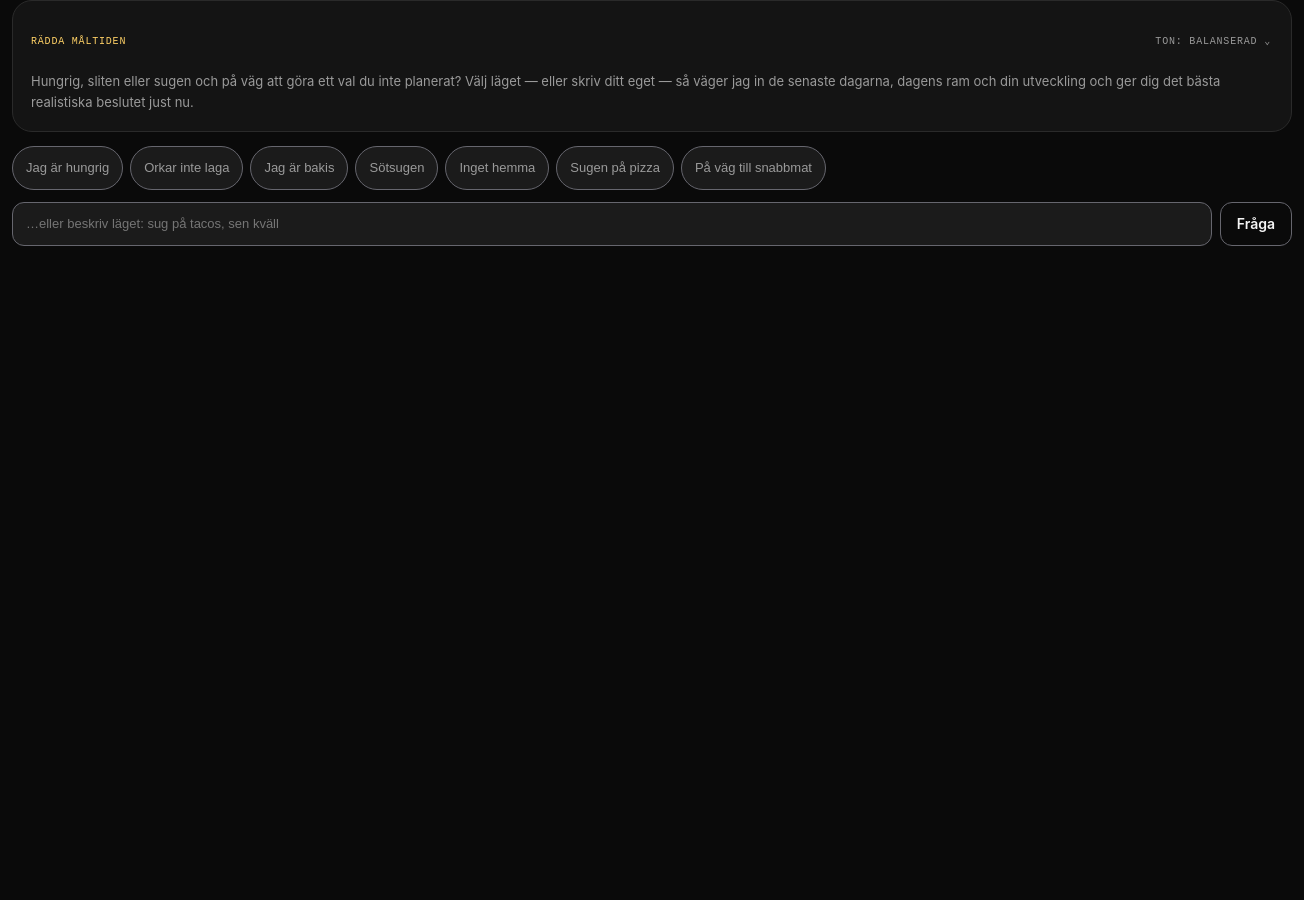
matakuten i gränssnittet › utan dagsmål påstås ingen ram — hellre säga det än hitta på en
Step 1. Click the button "Jag är hungrig" → (68, 168), box [12, 146, 123, 190]
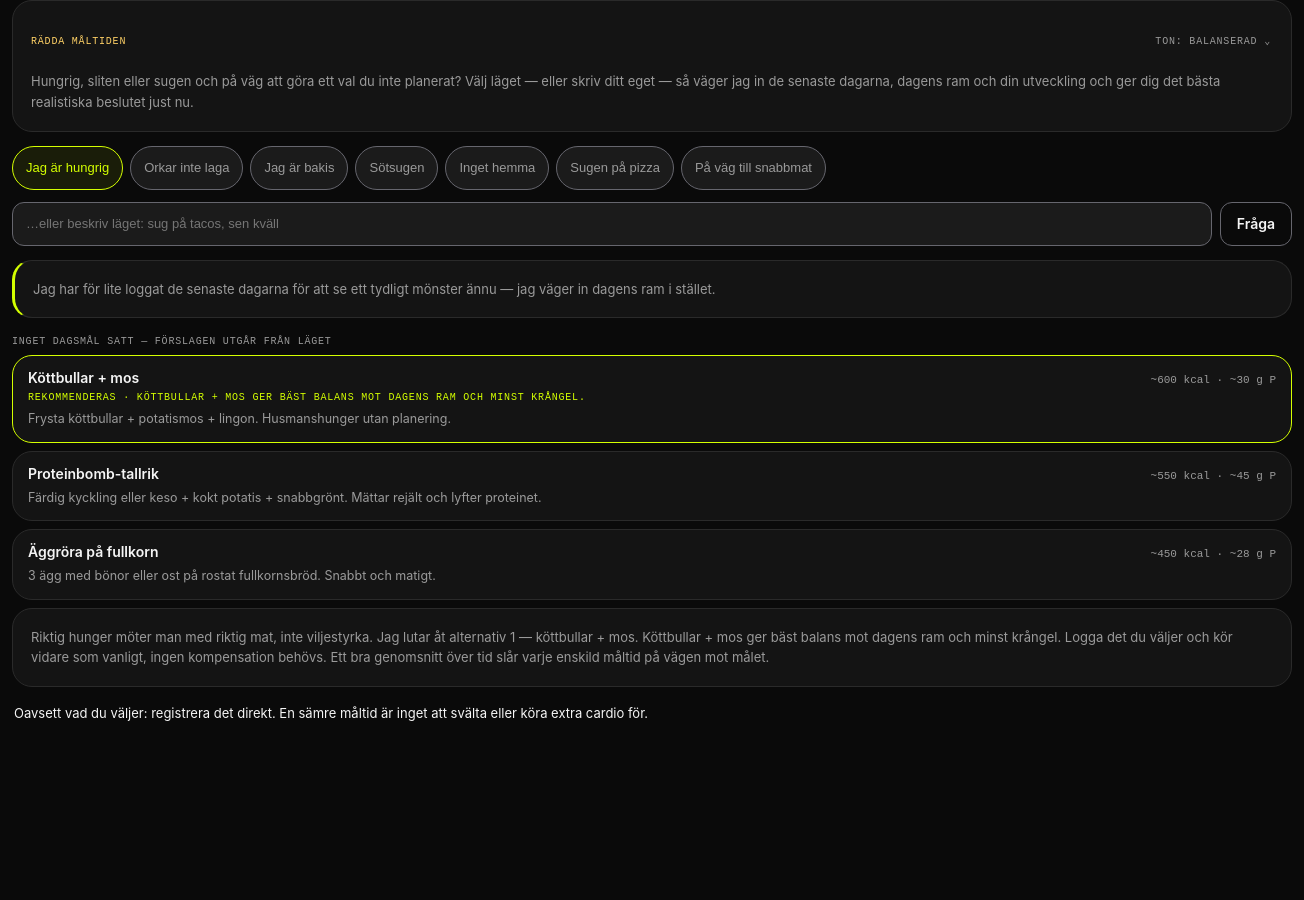
Now the text "Inget dagsmål satt" is shown, box [12, 336, 332, 347]
